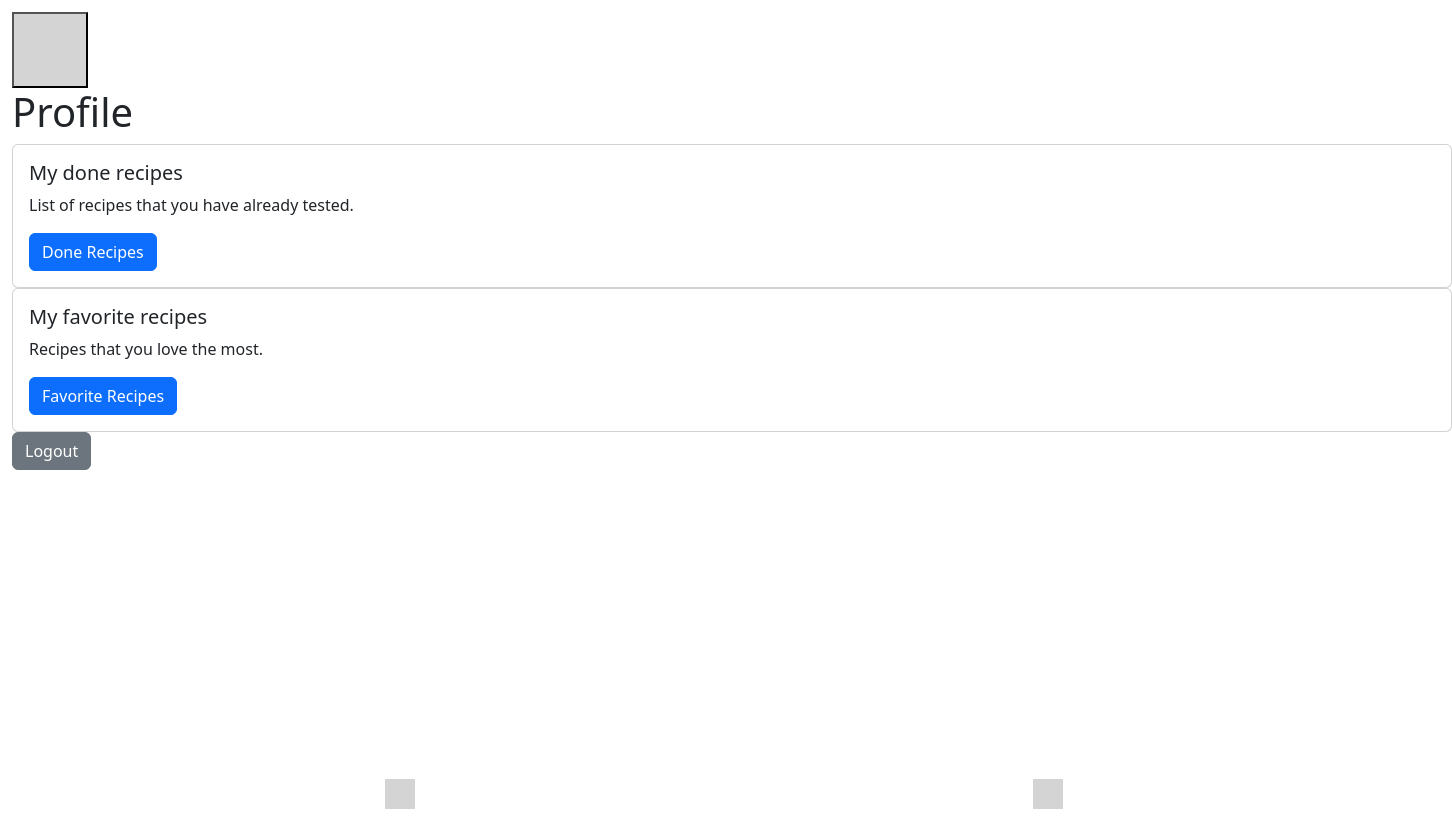
it: Verifica se o logout é feito corretamente
Click the button with test id "profile-logout-btn": (52, 451) 12,432 -> 91,470
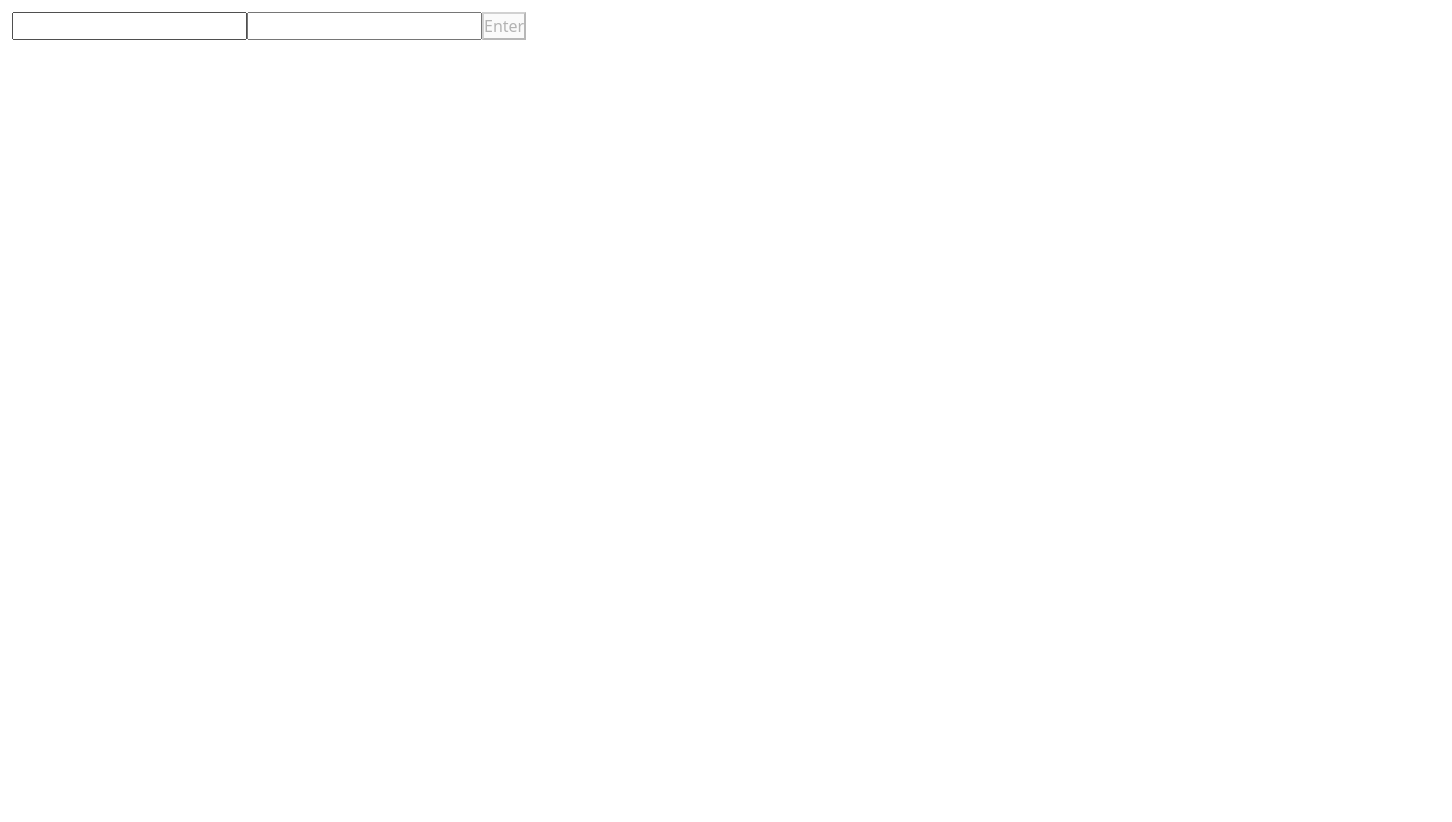
Expected: the field with test id "email-input" is shown, 12,12 -> 247,40
